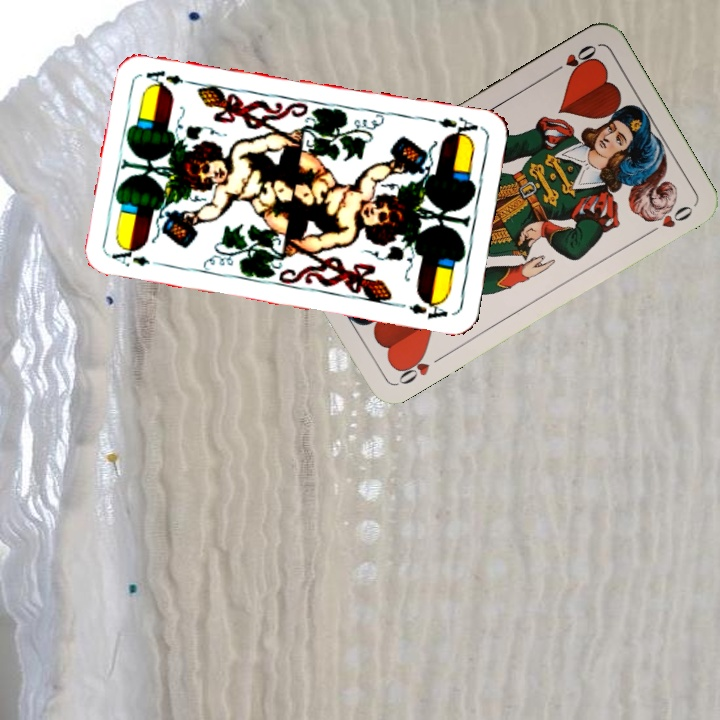EA: (434, 113, 483, 142), (108, 245, 167, 269)
HO: (392, 347, 447, 388), (547, 40, 600, 78)
